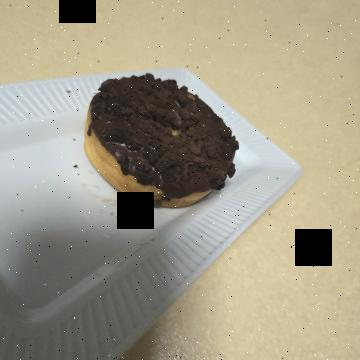doughnut: (57, 105, 225, 288)
